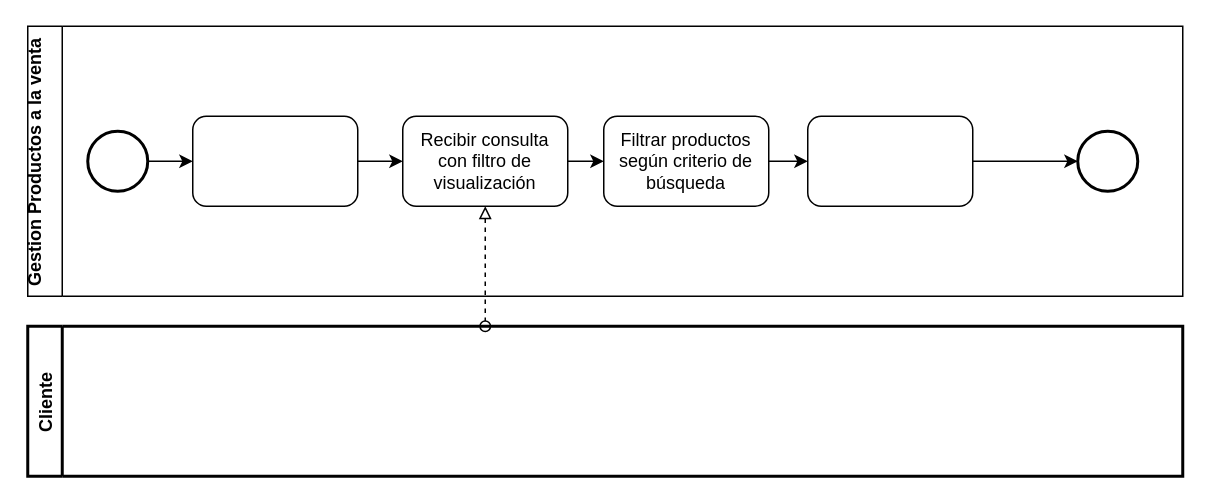
This 1211x504 diagram has some shape labels left out. The centre of each missing label's shape, as x and y in pixels:
"Mostrar productos disponibles agrupados por grupos" goes at (274,160).
"Mostrar productos en stock encontrados" goes at (889,160).
